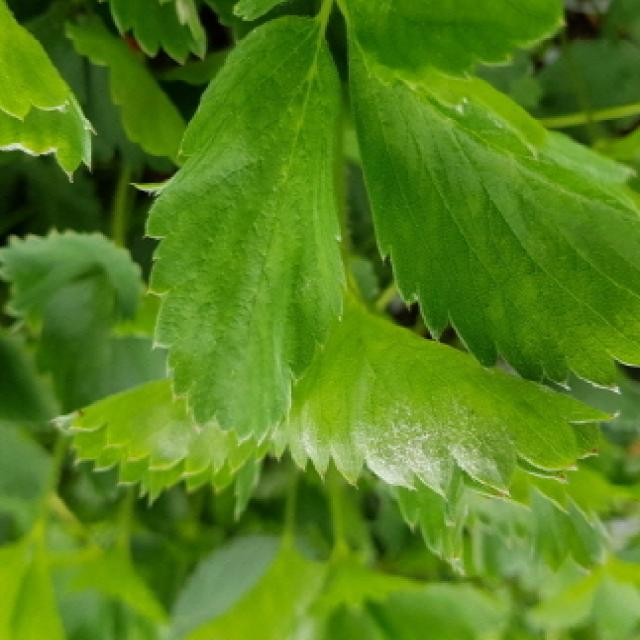Powdery Mildew Leaf: (271, 290, 624, 500), (49, 378, 270, 510)
